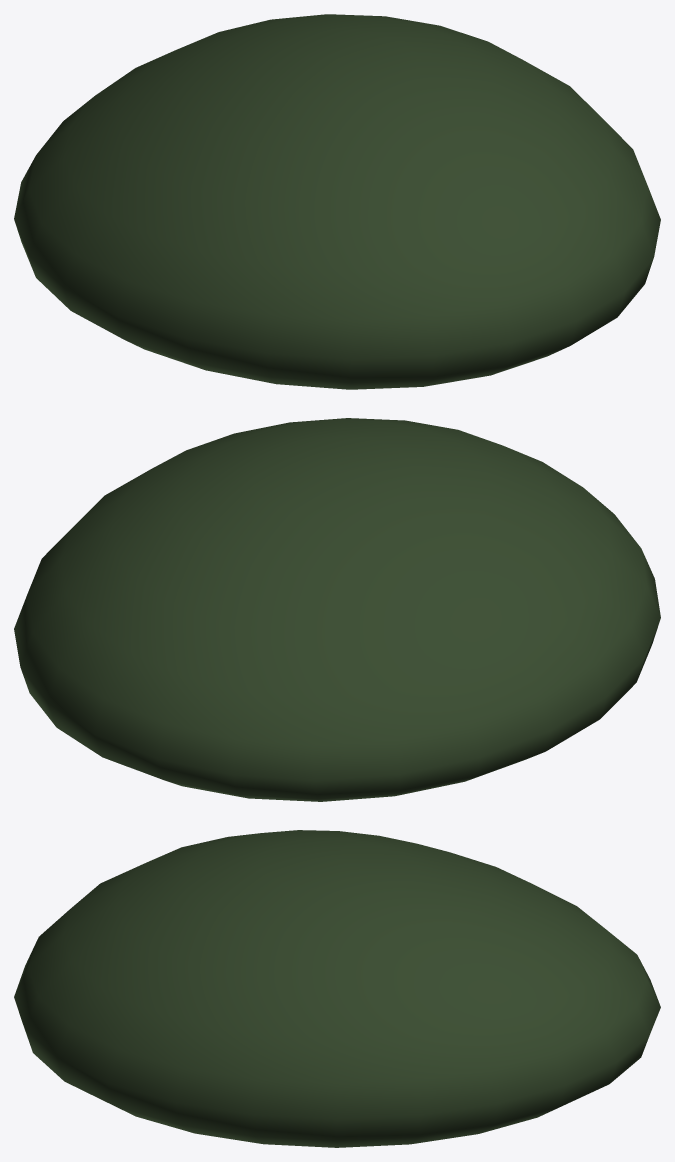
Rendered from Bush.fbx.
3 renders of one model, top to bottom at view 1: azimuth 30°, elevation 25°; view 2: azimuth 150°, elevation 25°; view 3: azimuth 270°, elevation 25°, orthographic. The views are drawn at different scales.
Parts seen in each view (by area): view 1: Sphere; view 2: Sphere; view 3: Sphere.
Part boxes in pixels (x1,y1,x2,y2): Sphere: (14, 14, 660, 389); Sphere: (14, 418, 660, 801); Sphere: (14, 830, 660, 1147).
Bounding box in the file's own units: 80.15 × 32.12 × 90.5.
